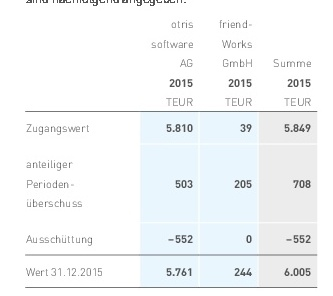table: (0, 0, 333, 296)
